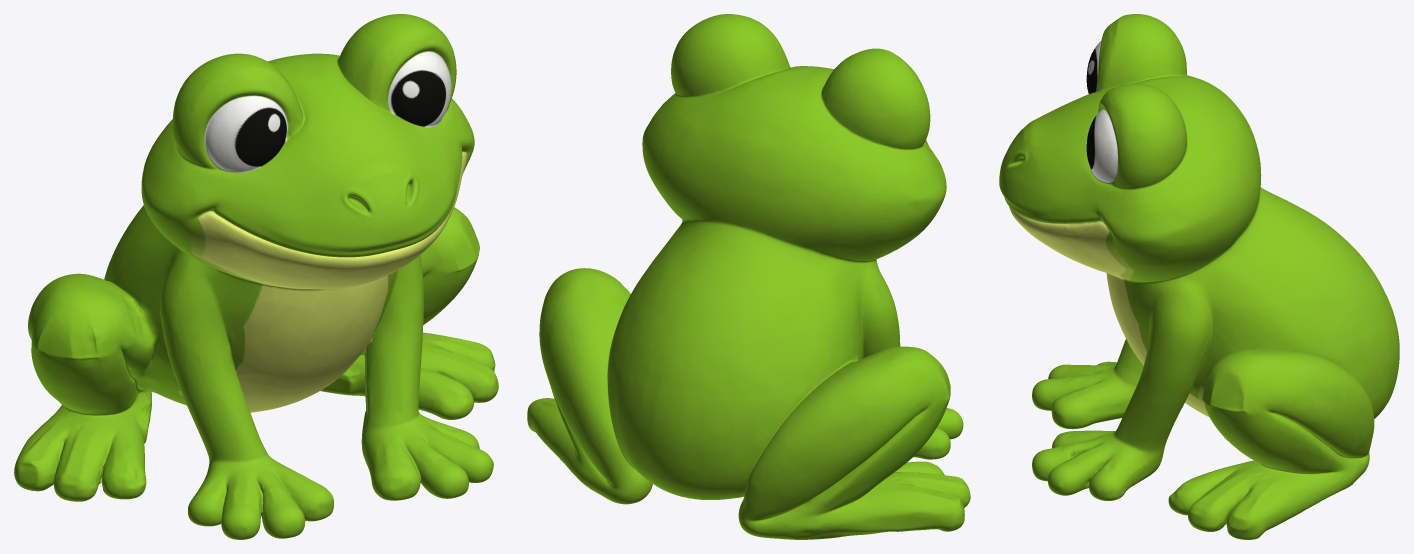
Rendered from frog.glb.
3 views of the same model, side by side, from view 1: azimuth 30°, elevation 25°; view 2: azimuth 150°, elevation 25°; view 3: azimuth 270°, elevation 25° (orthographic). The views are drawn at different scales.
Size of the model in its own units: 1.9 by 1.68 by 1.57.
Materials: 1 (1 with a texture image).
